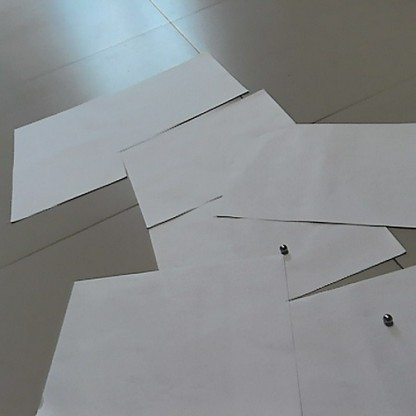ironball: (276, 240, 288, 254), (380, 312, 391, 326)
